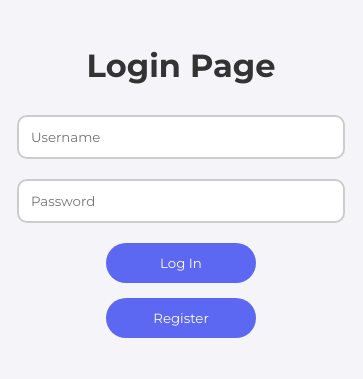
Test: login page tests › displays error message on failed registration
Type "existinguser" into the field with placeholder "Username" at (181, 137), box [17, 115, 345, 159]
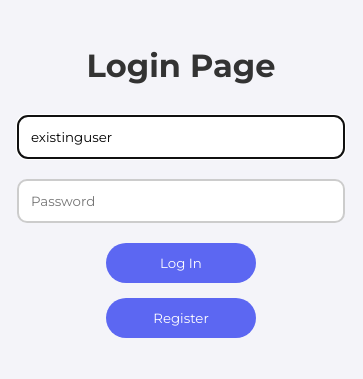
Type "newpass" into the password field with placeholder "Password" at (181, 201), box [17, 179, 345, 223]
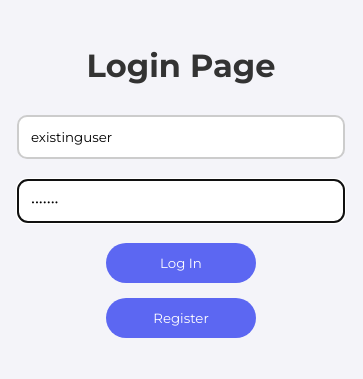
Click the button "Register" at (181, 318), box [106, 298, 256, 338]
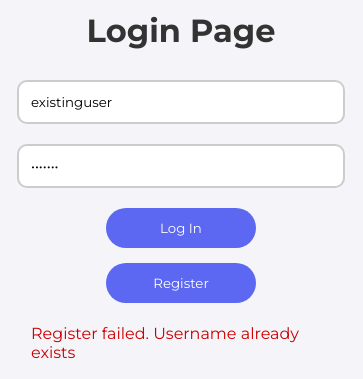
expect the text "Register failed. Username already exists" is shown: met, box [31, 324, 331, 362]
